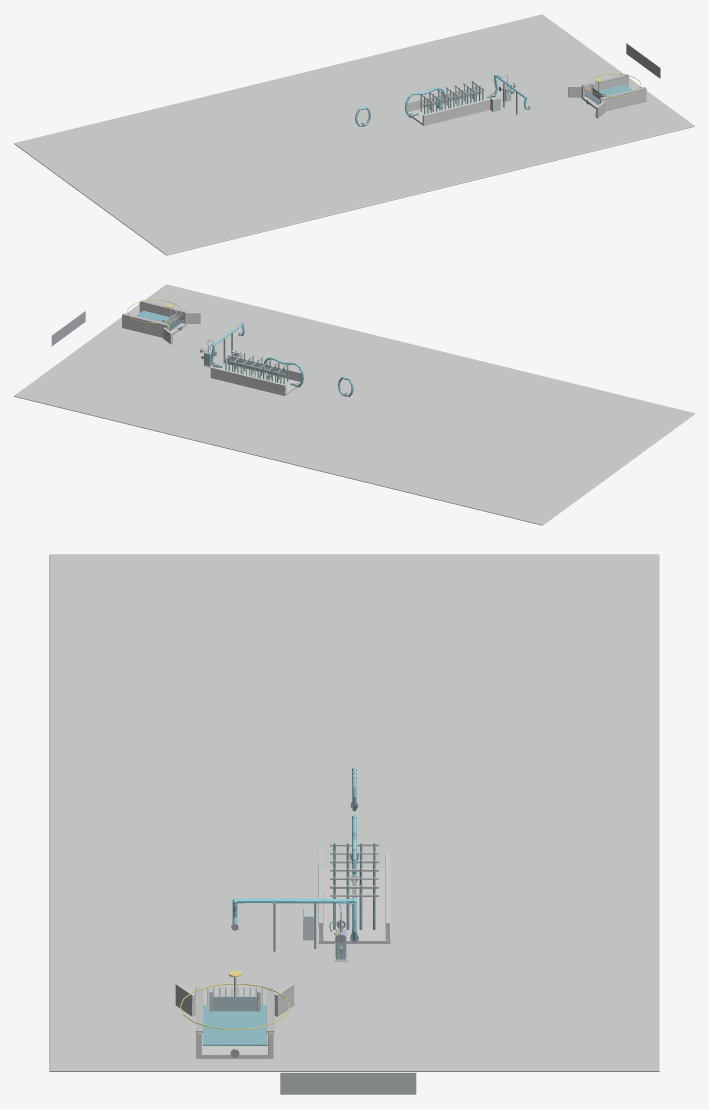
The picture shows the model from 3 angles, top to bottom: view 1: azimuth 30°, elevation 25°; view 2: azimuth 150°, elevation 25°; view 3: azimuth 270°, elevation 25°; orthographic projection. The views are drawn at different scales.
Parts seen in each view (by area): view 1: render-batch-11, render-batch-12, render-batch-2, render-batch-1, render-batch-7; view 2: render-batch-11, render-batch-12, render-batch-2, render-batch-1, render-batch-7; view 3: render-batch-11, render-batch-12, render-batch-7, render-batch-0, render-batch-1, render-batch-9, render-batch-2, render-batch-6, render-batch-8.
Boxes of the visible parts, x1,y1,x2,y2 form: render-batch-11: (14,14,694,255); render-batch-12: (407,76,646,125); render-batch-2: (420,81,510,114); render-batch-1: (405,74,529,116); render-batch-7: (626,43,660,78); render-batch-11: (14,284,694,525); render-batch-12: (122,302,301,395); render-batch-2: (225,351,288,384); render-batch-1: (207,322,303,386); render-batch-7: (51,311,85,346); render-batch-11: (49,554,659,1071); render-batch-12: (175,850,390,1058); render-batch-7: (280,1072,416,1094); render-batch-0: (202,859,356,1045); render-batch-1: (232,815,356,941); render-batch-9: (209,844,378,1049); render-batch-2: (333,843,375,941); render-batch-6: (213,929,346,1011); render-batch-8: (195,987,274,1032).
Size of the model in its own units: 96.02 by 4.65 by 46.
